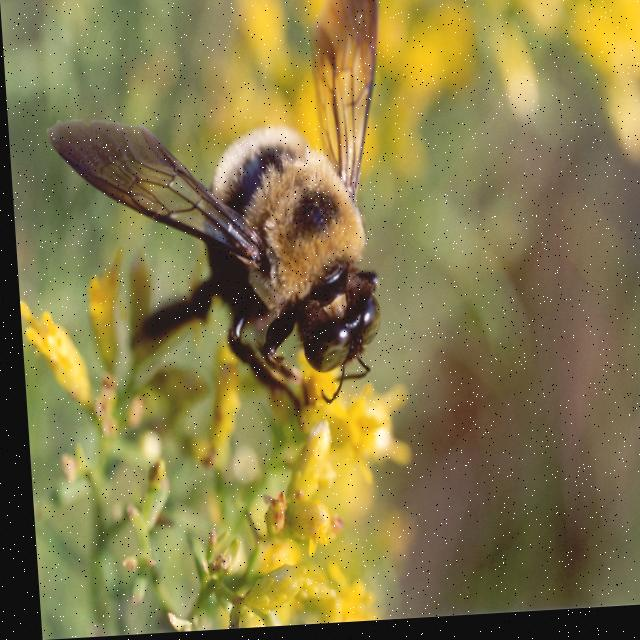Xylocopa: (31, 0, 431, 420)
